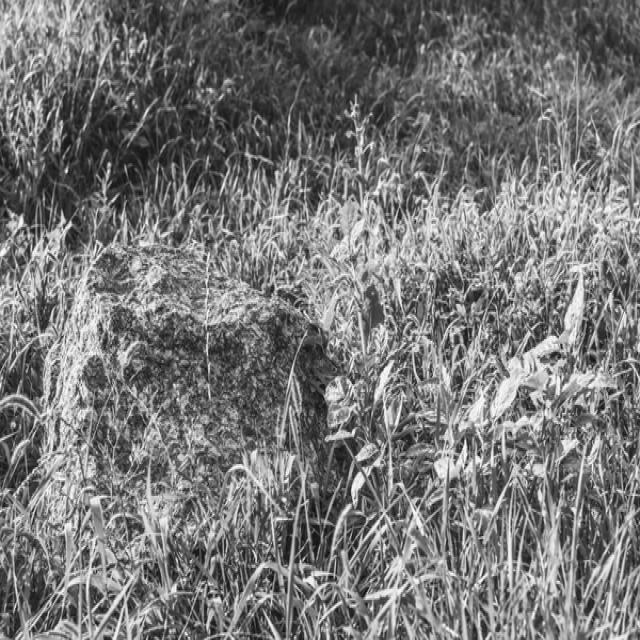Stone: (43, 245, 336, 530)
